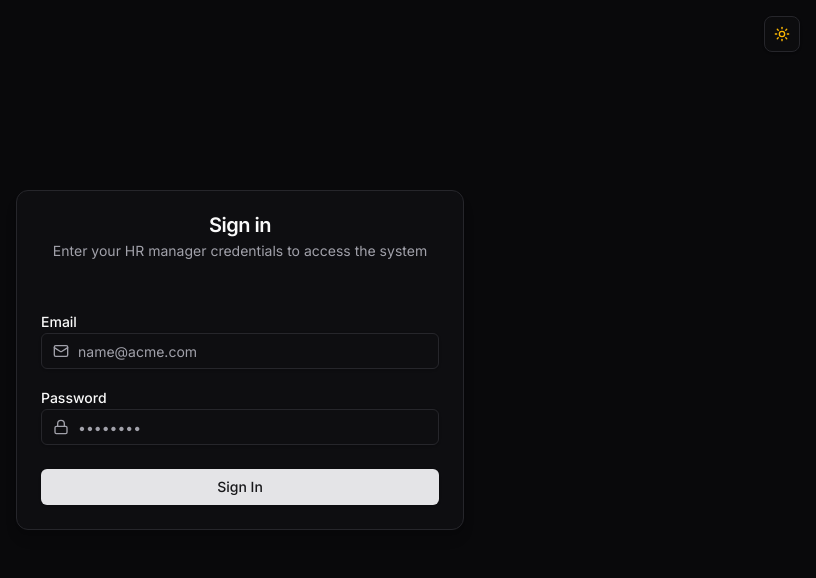
Scenario: Login Component › handles API login error
In the field labelled "Email": (240,351) [41,333,439,369], type "manager@acme.com"
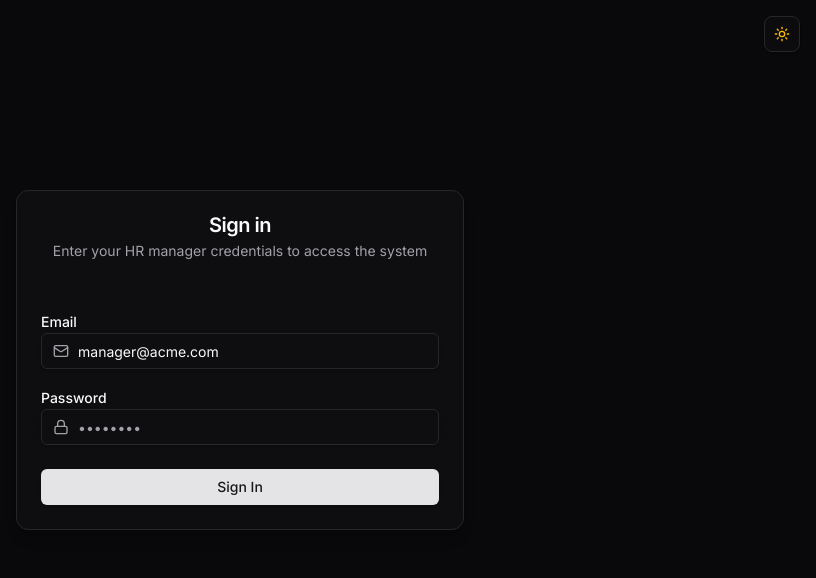
In the password field labelled "Password": (240,427) [41,409,439,445], type "password123"
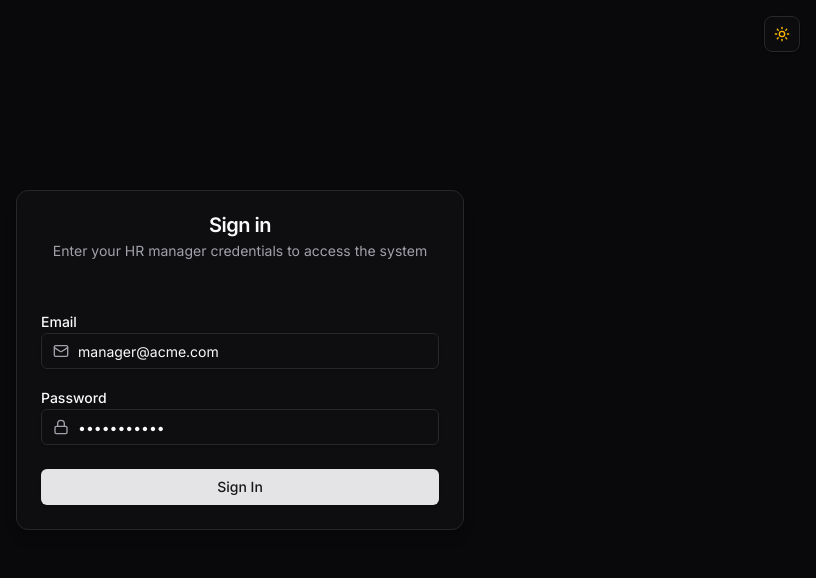
Click the button "Sign In": (240,487) [41,469,439,505]
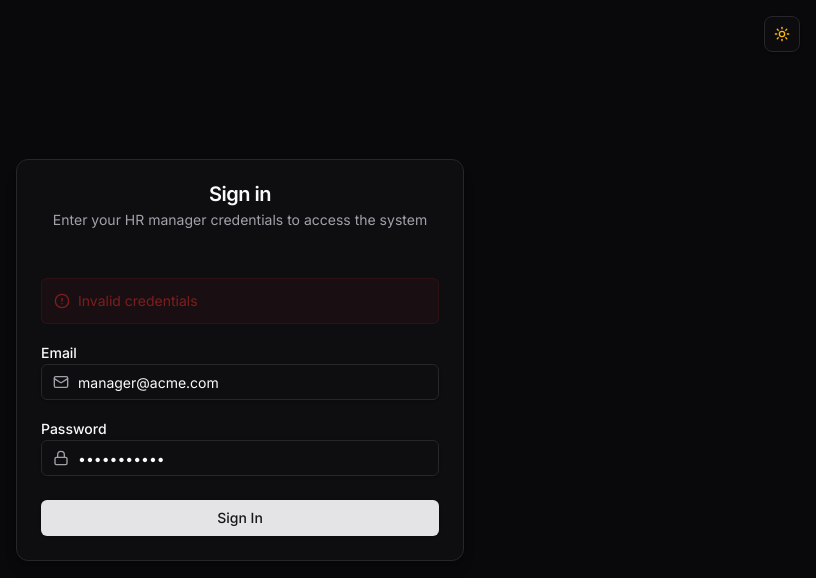
expect the text "Invalid credentials" is shown: met, box [78,291,198,311]
